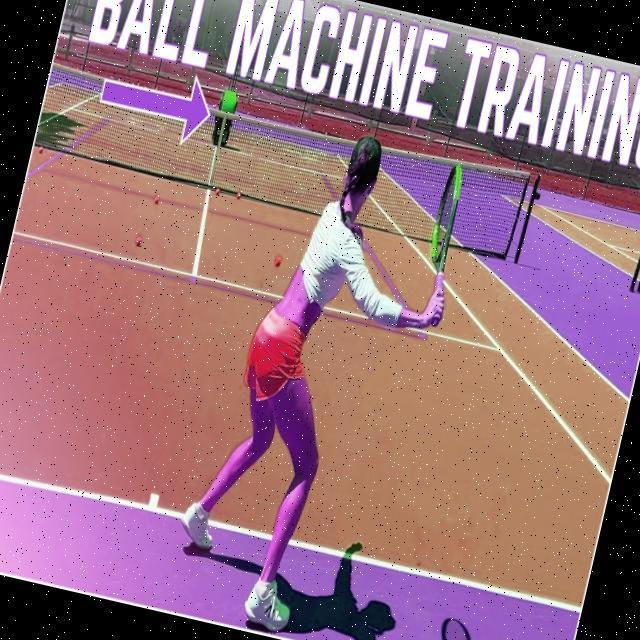court: (0, 110, 640, 640)
net: (29, 53, 542, 284)
player: (145, 93, 495, 640)
